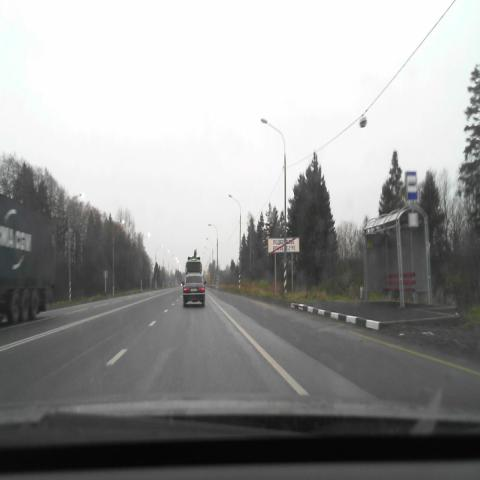5_16: (406, 172, 417, 200)
